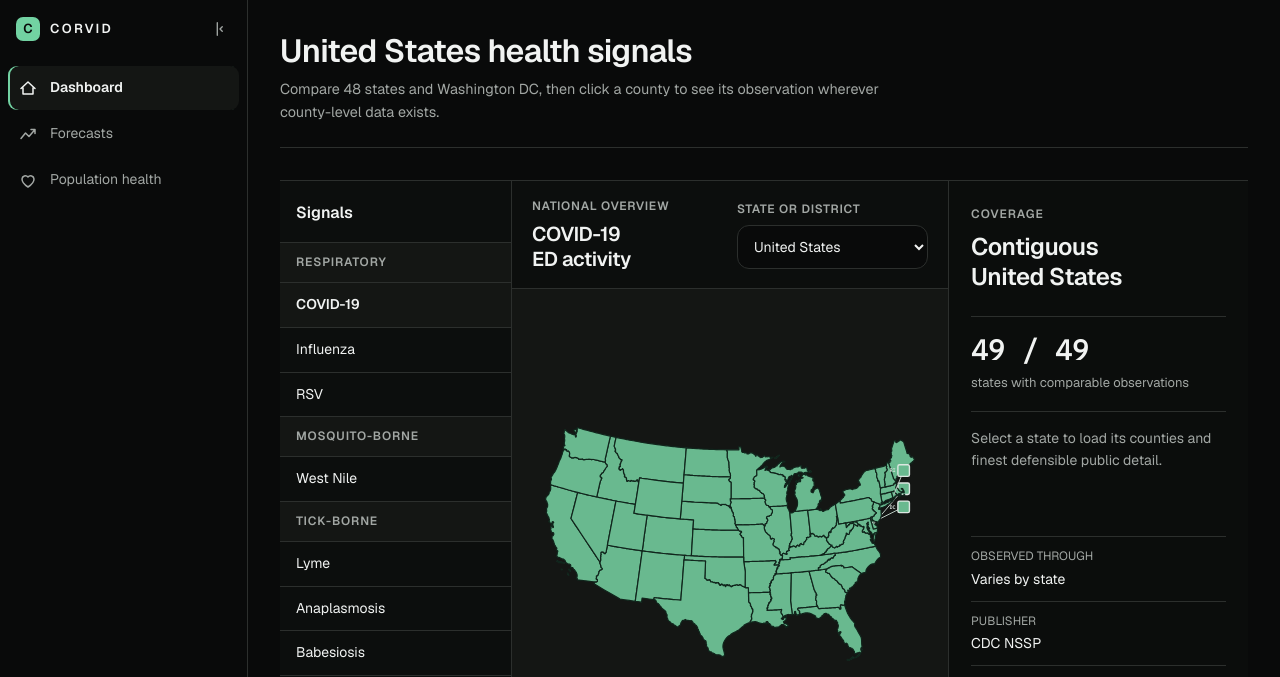
Test: NationalDashboard › switches with zero fetch and no loading flash when every signal is already primed from the server-warmed cache
Click the button named "Influenza ED activity": click(396, 350) [280,328,511,373]
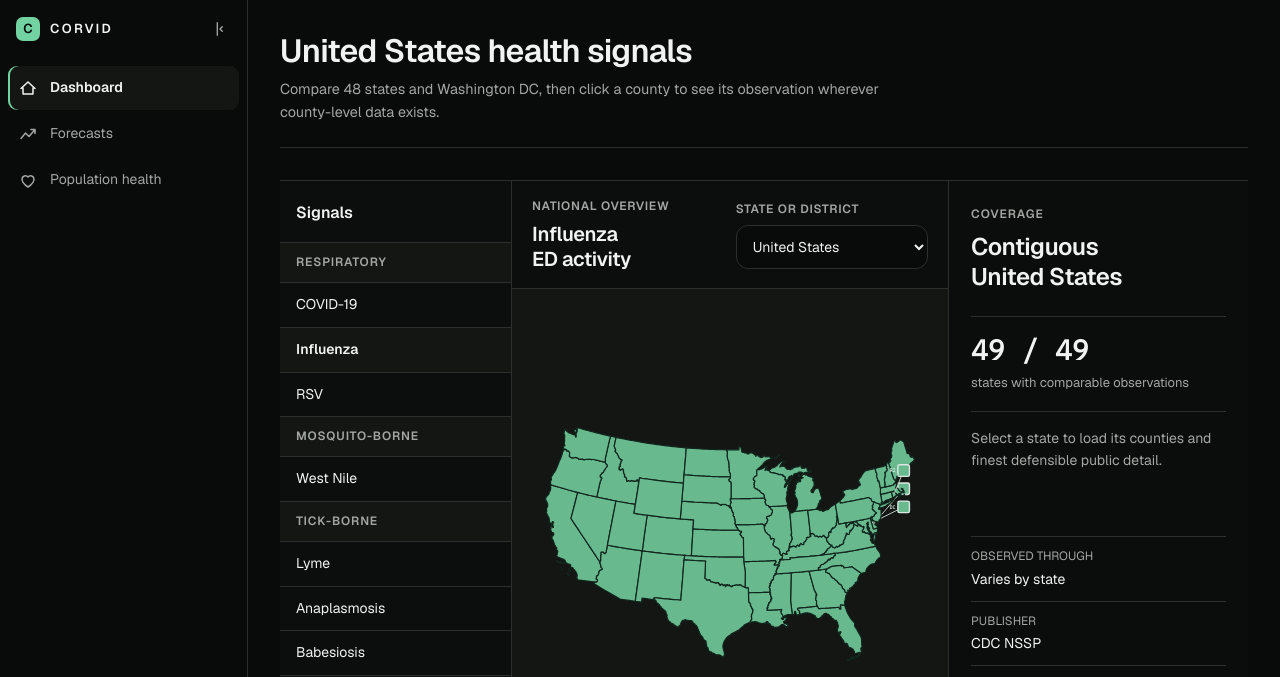
expect the heading "Influenza ED activity" is shown: met, box [532,221,631,272]
